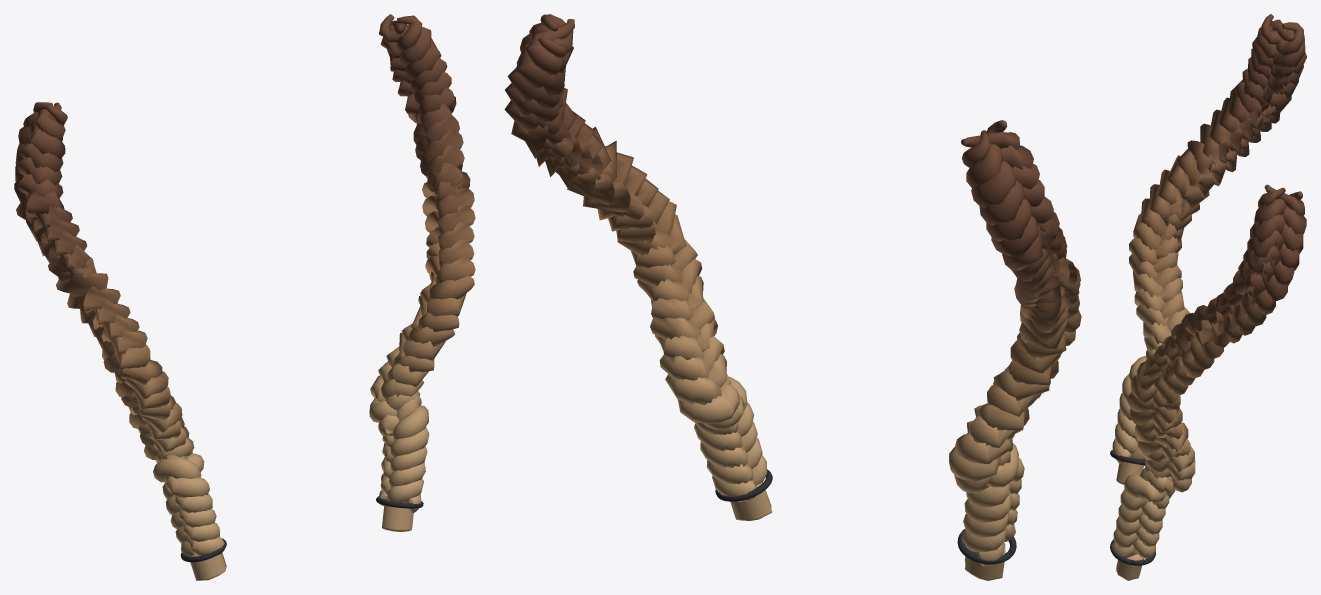
Rendered from Ombre-4d3e317ddc33253-hair.glb.
3 views of the same model, side by side, from view 1: azimuth 30°, elevation 25°; view 2: azimuth 150°, elevation 25°; view 3: azimuth 270°, elevation 25° (orthographic). The views are drawn at different scales.
Visible parts, largest first — view 1: 226 hairLengths / Hair / chestnut226, 226 hairLengths / Hair / ties226; view 2: 226 hairLengths / Hair / chestnut226, 226 hairLengths / Hair / ties226; view 3: 226 hairLengths / Hair / chestnut226, 226 hairLengths / Hair / ties226.
Part boxes in pixels (left/top/right/bottom): 226 hairLengths / Hair / chestnut226: left=14, top=14, right=475, bottom=580; 226 hairLengths / Hair / ties226: left=180, top=496, right=423, bottom=562; 226 hairLengths / Hair / chestnut226: left=504, top=14, right=1081, bottom=580; 226 hairLengths / Hair / ties226: left=715, top=469, right=1016, bottom=564; 226 hairLengths / Hair / chestnut226: left=1111, top=14, right=1306, bottom=580; 226 hairLengths / Hair / ties226: left=1110, top=450, right=1155, bottom=565.
Size of the model in its own units: 1.09 by 1.05 by 0.4378.
2 materials, 1 textured.
